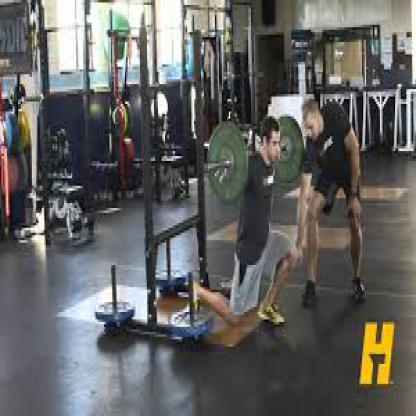Barbell: (202, 160, 216, 180)
